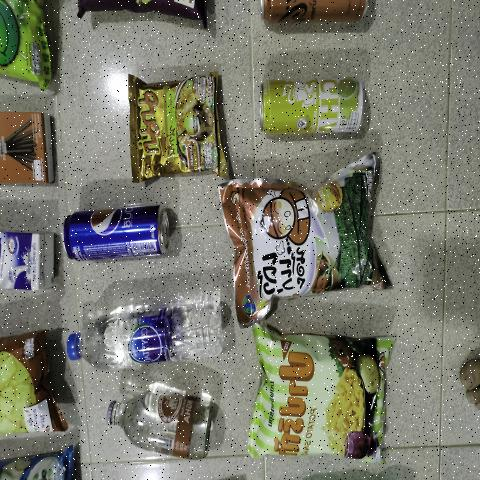crystal: (65, 294, 227, 374)
mama: (127, 80, 219, 176)
paprika: (253, 346, 388, 459)
pepsi_blue: (60, 212, 170, 260)
singha_soda: (104, 390, 220, 457)
singha_yellow: (259, 78, 366, 138)
taokaenoi: (227, 185, 382, 295)
